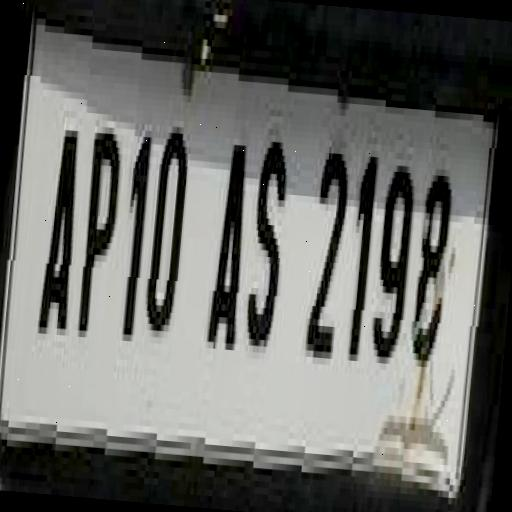number plate: (0, 0, 507, 505)
